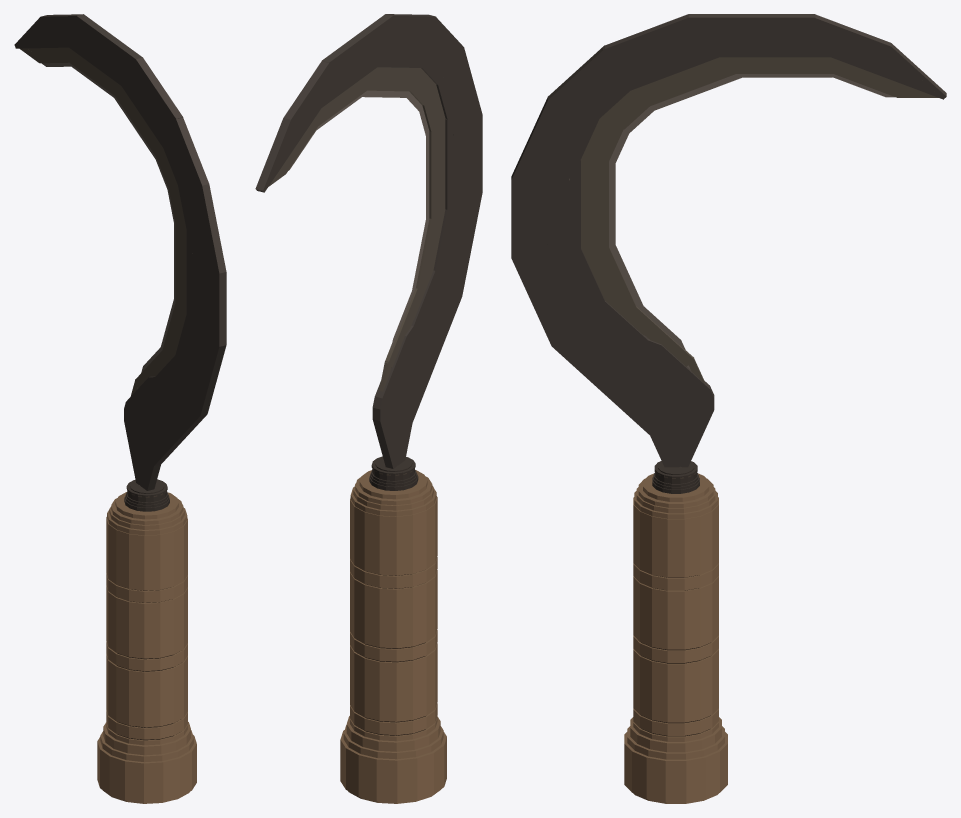
File: low_poly_sickle.glb
The picture shows the model from 3 angles, left to right: view 1: azimuth 30°, elevation 25°; view 2: azimuth 150°, elevation 25°; view 3: azimuth 270°, elevation 25°; orthographic projection. The views are drawn at different scales.
Parts seen in each view (by area): view 1: cube_232, cube_230, cube_222, cube_207, cube_218, cube_220, cube_221, cube_217, hexadecagon_81, hexadecagon_89, hexadecagon_57, cube_201 (+32 smaller); view 2: cube_232, cube_230, cube_218, cube_222, cube_207, cube_201, cube_220, cube_217, cube_221, cube_202, cube_198, hexadecagon_83 (+36 smaller); view 3: cube_232, cube_230, cube_222, cube_218, cube_207, cube_220, cube_221, cube_217, cube_202, cube_201, cube_198, cube_195 (+24 smaller).
Part boxes in pixels (x1,y1,x2,y2): cube_232: [125, 365, 206, 473]; cube_230: [174, 309, 226, 415]; cube_222: [179, 184, 226, 273]; cube_207: [191, 253, 226, 346]; cube_218: [76, 14, 142, 87]; cube_220: [128, 57, 182, 144]; cube_221: [162, 116, 209, 198]; cube_217: [40, 14, 81, 43]; hexadecagon_81: [144, 602, 160, 658]; hexadecagon_89: [144, 671, 160, 727]; hexadecagon_57: [144, 534, 160, 590]; cube_201: [175, 212, 186, 316]; cube_232: [381, 280, 461, 441]; cube_230: [434, 192, 482, 296]; cube_218: [322, 14, 392, 93]; cube_222: [439, 47, 482, 150]; cube_207: [453, 115, 482, 200]; cube_201: [429, 108, 445, 223]; cube_220: [385, 14, 434, 58]; cube_217: [283, 61, 334, 139]; cube_221: [421, 14, 463, 82]; cube_202: [411, 215, 444, 319]; cube_198: [359, 67, 416, 91]; hexadecagon_83: [379, 588, 396, 648]; cube_232: [552, 303, 703, 448]; cube_230: [511, 238, 605, 345]; cube_222: [511, 97, 596, 198]; cube_218: [688, 14, 814, 48]; cube_207: [511, 179, 570, 258]; cube_220: [603, 14, 704, 84]; cube_221: [548, 45, 631, 125]; cube_217: [804, 14, 891, 71]; cube_202: [581, 230, 647, 335]; cube_201: [581, 146, 608, 252]; cube_198: [639, 57, 751, 107]; cube_195: [733, 57, 840, 73].
Size of the model in its own units: 0.0742 by 0.6041 by 0.3109.
Materials: 2 (2 with a texture image).
